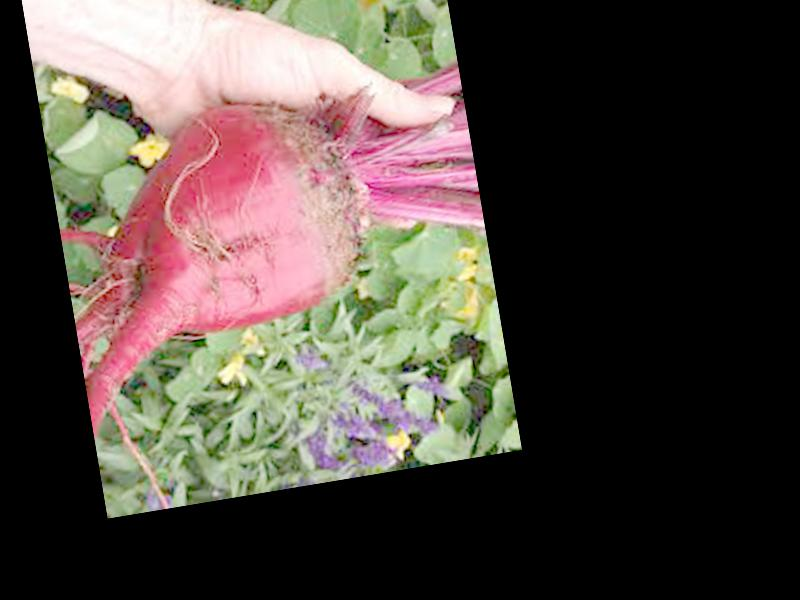Beet: (43, 66, 504, 430)
